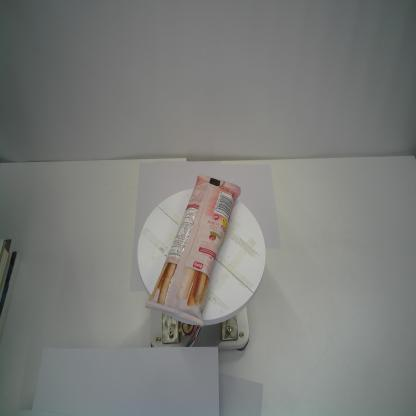Dessert: (144, 171, 242, 333)
